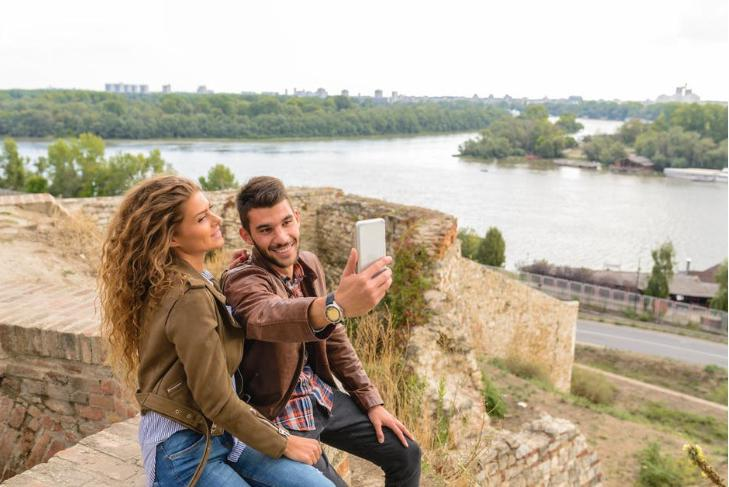face: (250, 200, 300, 267), (184, 190, 225, 251)
